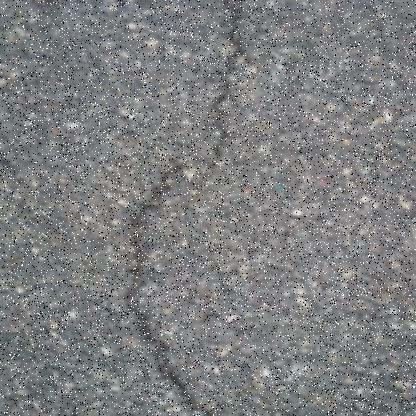Cracks: (113, 0, 262, 415)
